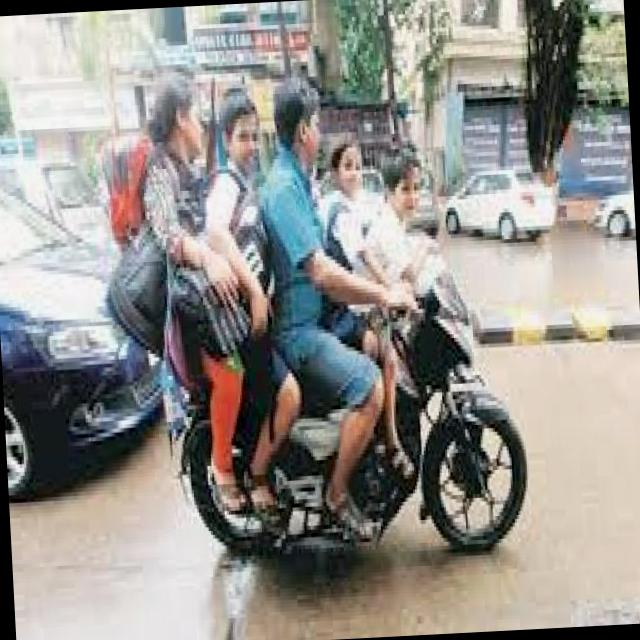motorcycle: (156, 258, 535, 584)
person: (230, 65, 354, 384), (110, 80, 228, 404), (184, 83, 278, 358), (297, 119, 389, 352), (366, 140, 456, 330)
rider_region: (122, 64, 532, 574)
